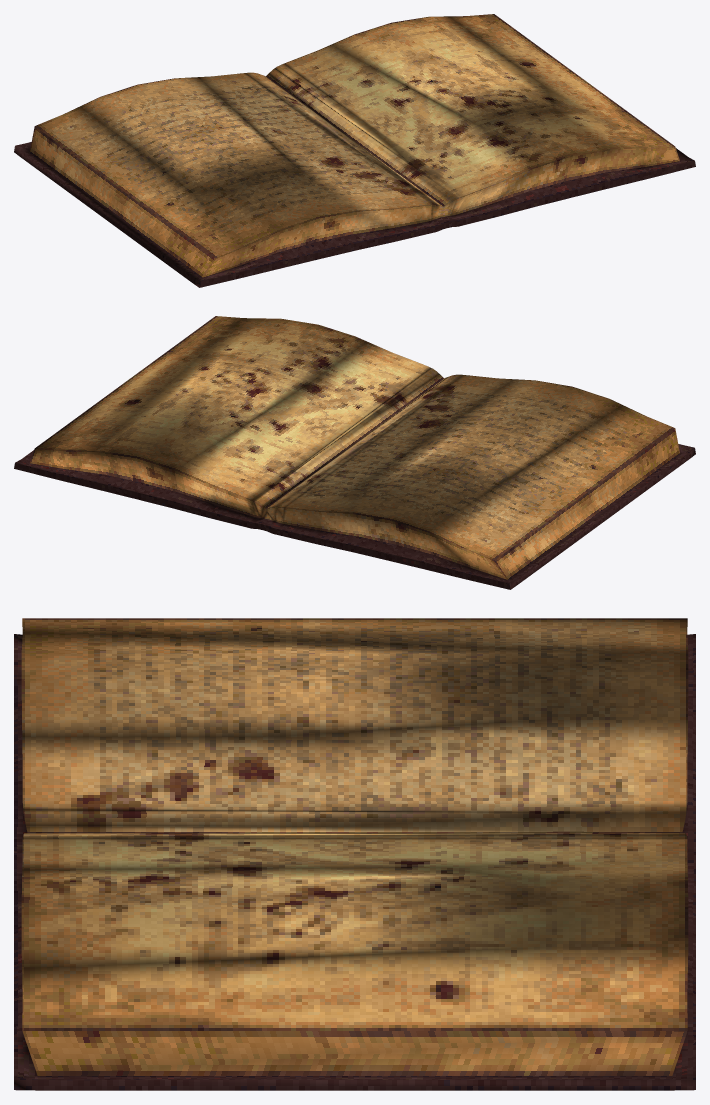
Rendered from cultist_book.glb.
3 renders of one model, top to bottom at view 1: azimuth 30°, elevation 25°; view 2: azimuth 150°, elevation 25°; view 3: azimuth 270°, elevation 25°, orthographic. The views are drawn at different scales.
Visible parts, largest first — view 1: cultist_book; view 2: cultist_book; view 3: cultist_book.
Part boxes in pixels (<box>): cultist_book: <box>14,14,695,287</box>; cultist_book: <box>14,316,695,589</box>; cultist_book: <box>14,618,695,1090</box>.
Bounding box in the file's own units: 0.3292 × 0.0262 × 0.2129.
Materials: 1 (1 with a texture image).
